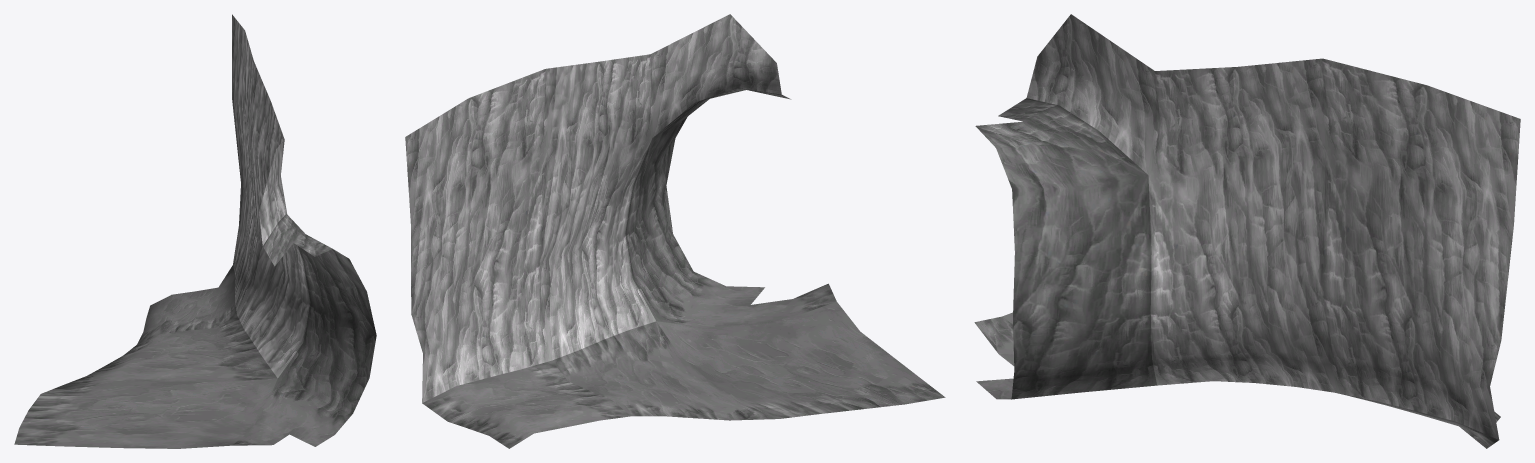
File: SWORDLIGHT20_PS-AREA02-03TRANS_04.fbx
The picture shows the model from 3 angles, left to right: view 1: azimuth 30°, elevation 25°; view 2: azimuth 150°, elevation 25°; view 3: azimuth 270°, elevation 25°; orthographic projection. The views are drawn at different scales.
Visible parts, largest first — view 1: SWORDLIGHT20_PS-AREA02-03TRANS_04; view 2: SWORDLIGHT20_PS-AREA02-03TRANS_04; view 3: SWORDLIGHT20_PS-AREA02-03TRANS_04.
Boxes of the visible parts, x1,y1,x2,y2 form: SWORDLIGHT20_PS-AREA02-03TRANS_04: (14, 14, 376, 448); SWORDLIGHT20_PS-AREA02-03TRANS_04: (405, 14, 945, 448); SWORDLIGHT20_PS-AREA02-03TRANS_04: (974, 14, 1520, 448).
Bounding box in the file's own units: 208768 × 160548 × 208796.
Materials: 5 (5 with a texture image).
